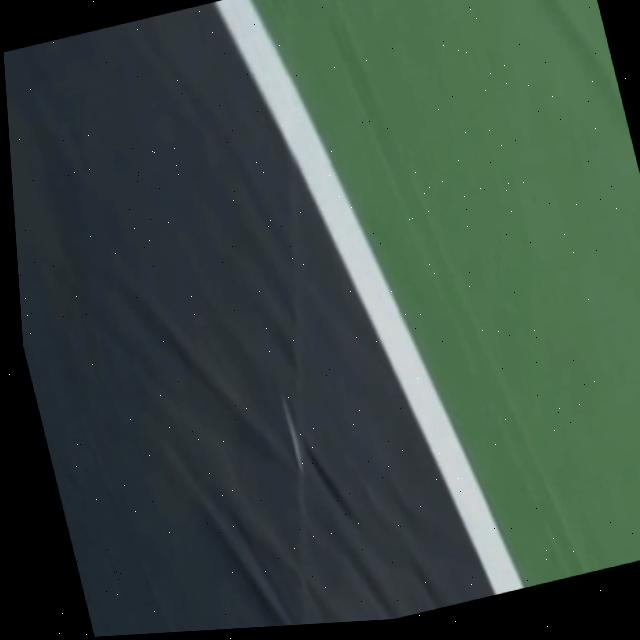right: (213, 0, 523, 595)
